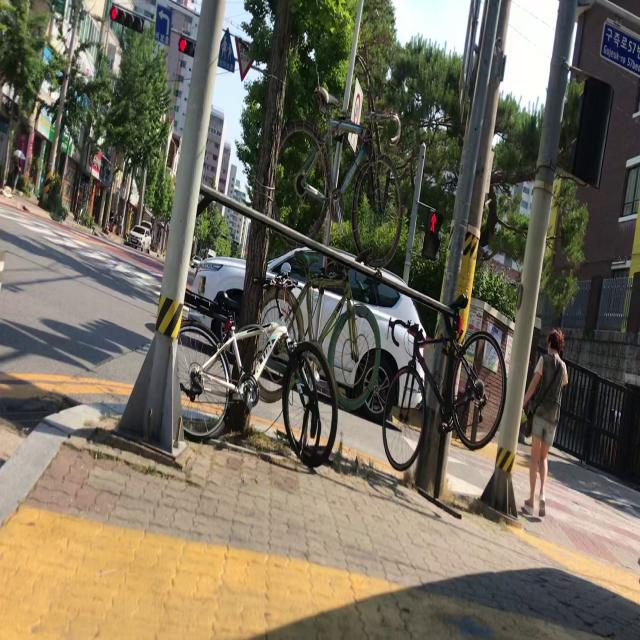빨간불: (420, 208, 444, 262)
횡단보도: (467, 455, 640, 563), (0, 203, 163, 303)
